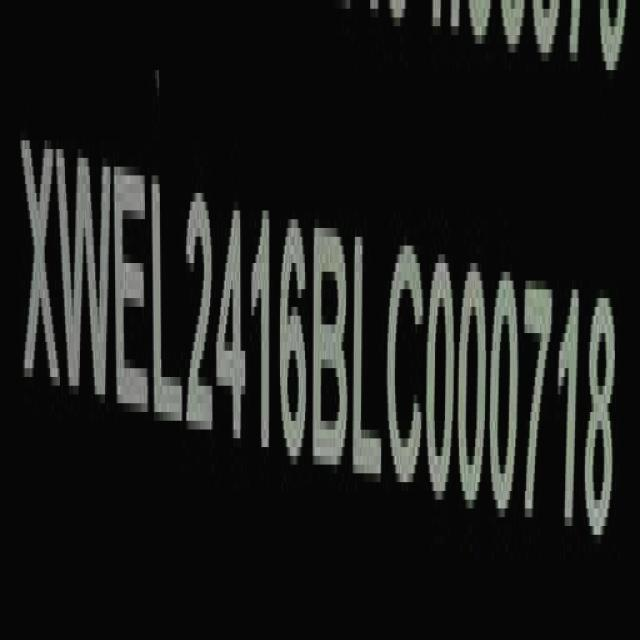0: (490, 269, 520, 523), (460, 258, 488, 511), (429, 250, 456, 509)
1: (556, 279, 580, 538), (253, 201, 274, 465)
2: (188, 184, 215, 448)
4: (215, 194, 247, 456)
6: (279, 203, 309, 468)
7: (523, 268, 552, 532)
8: (584, 282, 615, 543)
B: (313, 213, 348, 482)
C: (388, 245, 422, 502)
E: (115, 152, 152, 430)
L: (354, 232, 386, 495), (153, 173, 183, 439)
W: (58, 130, 113, 418)
X: (18, 124, 59, 407)
